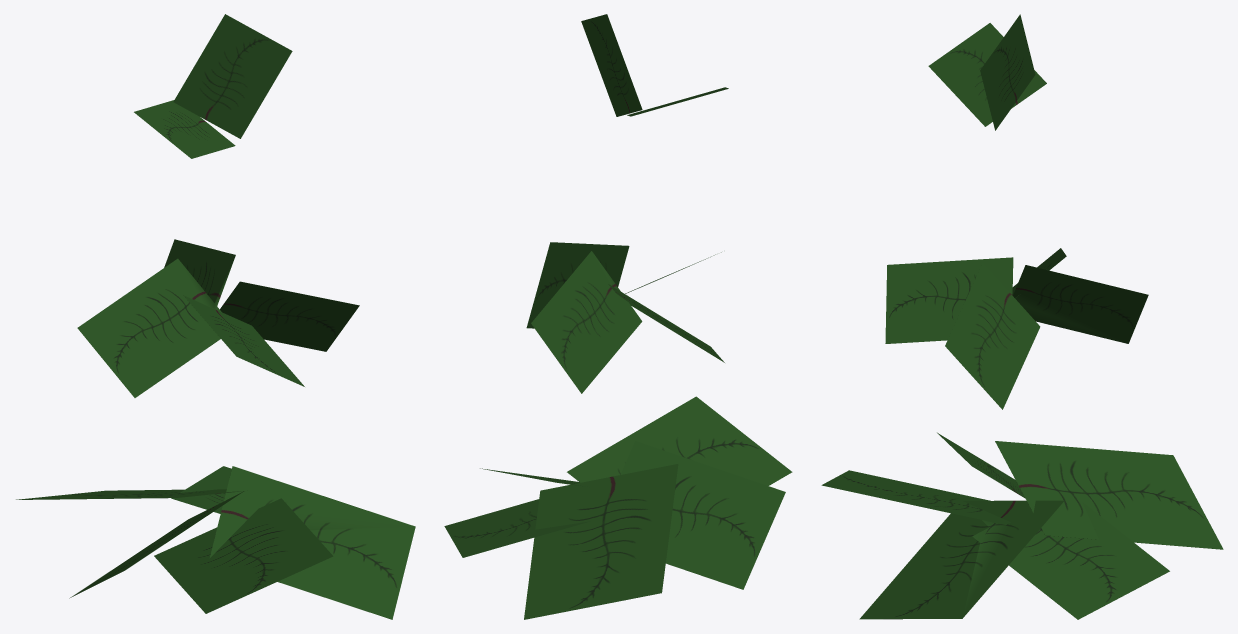
File: PotatoLeaves.fbx
3 renders of one model, left to right at view 1: azimuth 30°, elevation 25°; view 2: azimuth 150°, elevation 25°; view 3: azimuth 270°, elevation 25°, orthographic. The views are drawn at different scales.
Visible parts, largest first — view 1: Leaf; view 2: Leaf; view 3: Leaf.
Boxes of the visible parts, bbox=[...] form: Leaf: bbox=[16, 14, 415, 619]; Leaf: bbox=[444, 14, 792, 619]; Leaf: bbox=[821, 14, 1223, 619].
Bounding box in the file's own units: 1.72 × 3 × 1.94.
